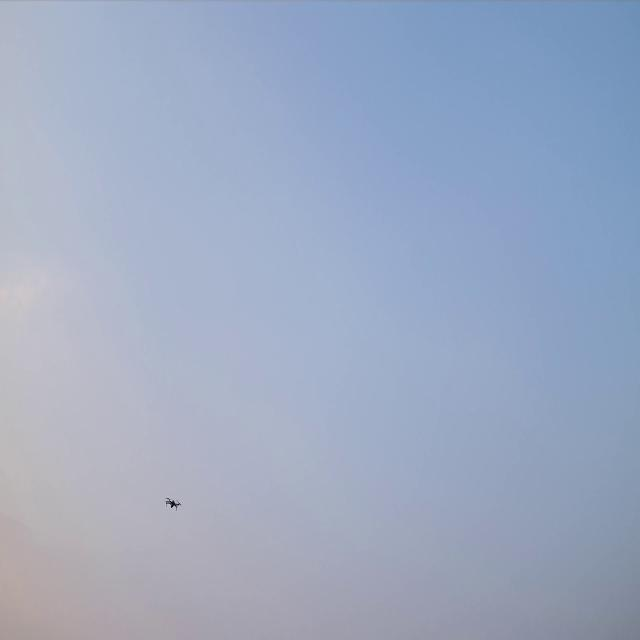UAV: (163, 494, 182, 513)
